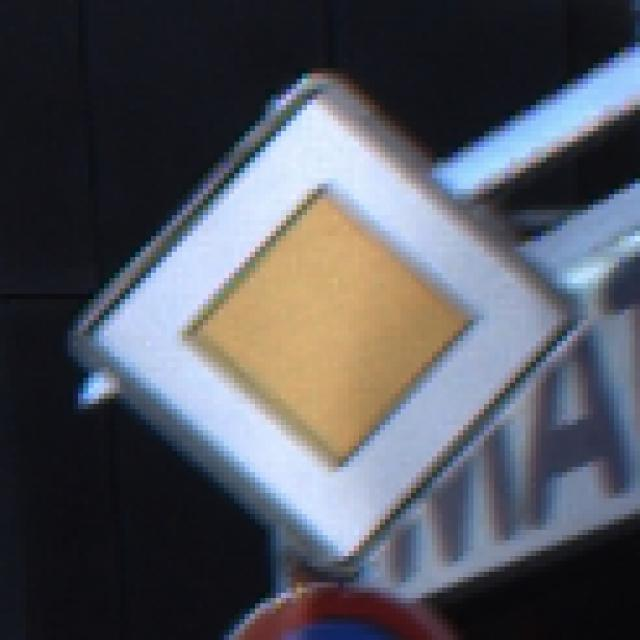Main Road: (58, 54, 589, 589)
